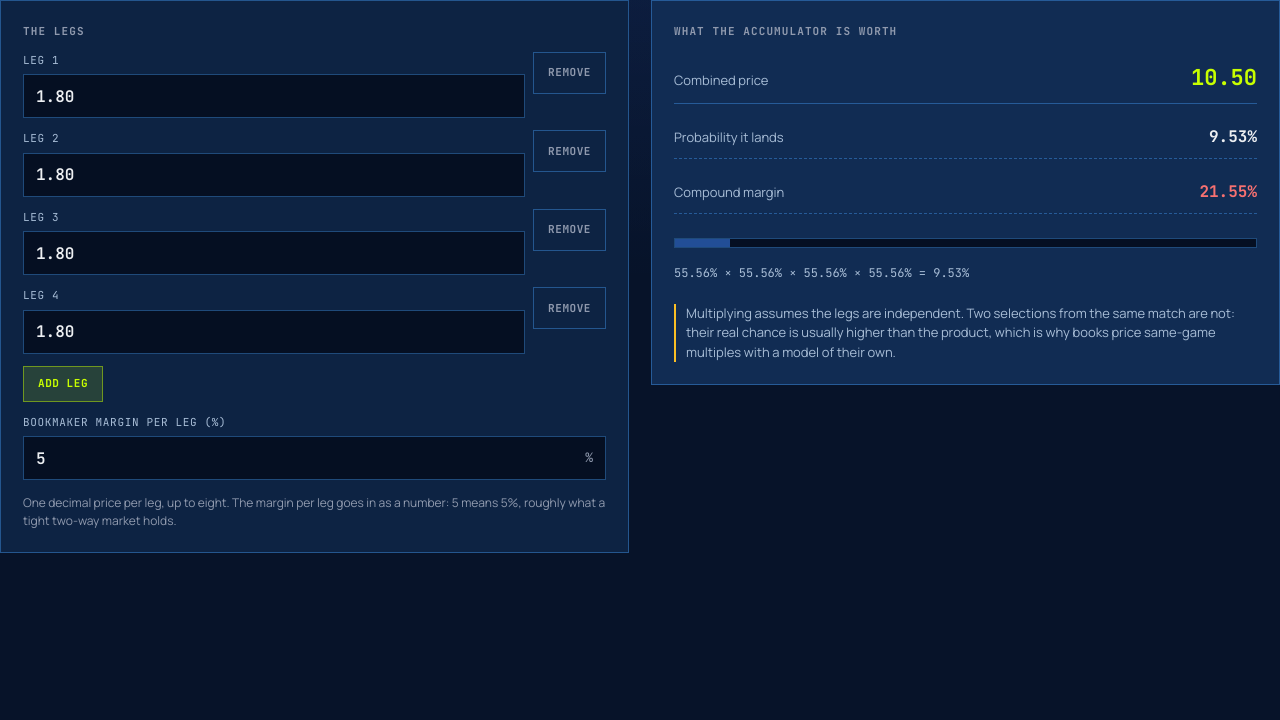
Scenario: parlay calculator › una gamba vuota mostra il trattino, e il bottone togli la fa tornare al numero
The image size is (1280, 720).
Click the button "Add leg".
click(63, 384)  # box [23,366,103,402]
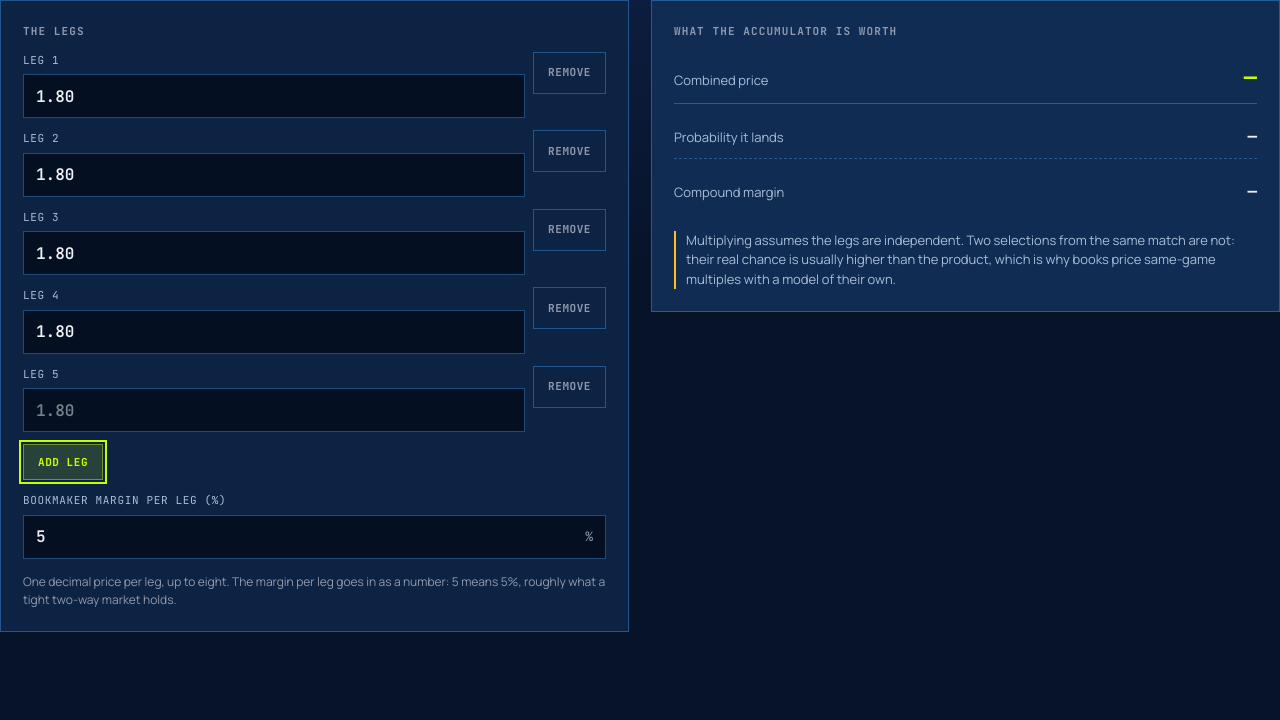
Expected: the field labelled "Leg 5" is shown, [24,389,524,431]
Expected: the text with test id "out-parlay-total" reads "—", [1244,62,1257,92]
Click the button "Remove" in the row of "Leg 5".
click(570, 386)  # box [533,366,606,408]
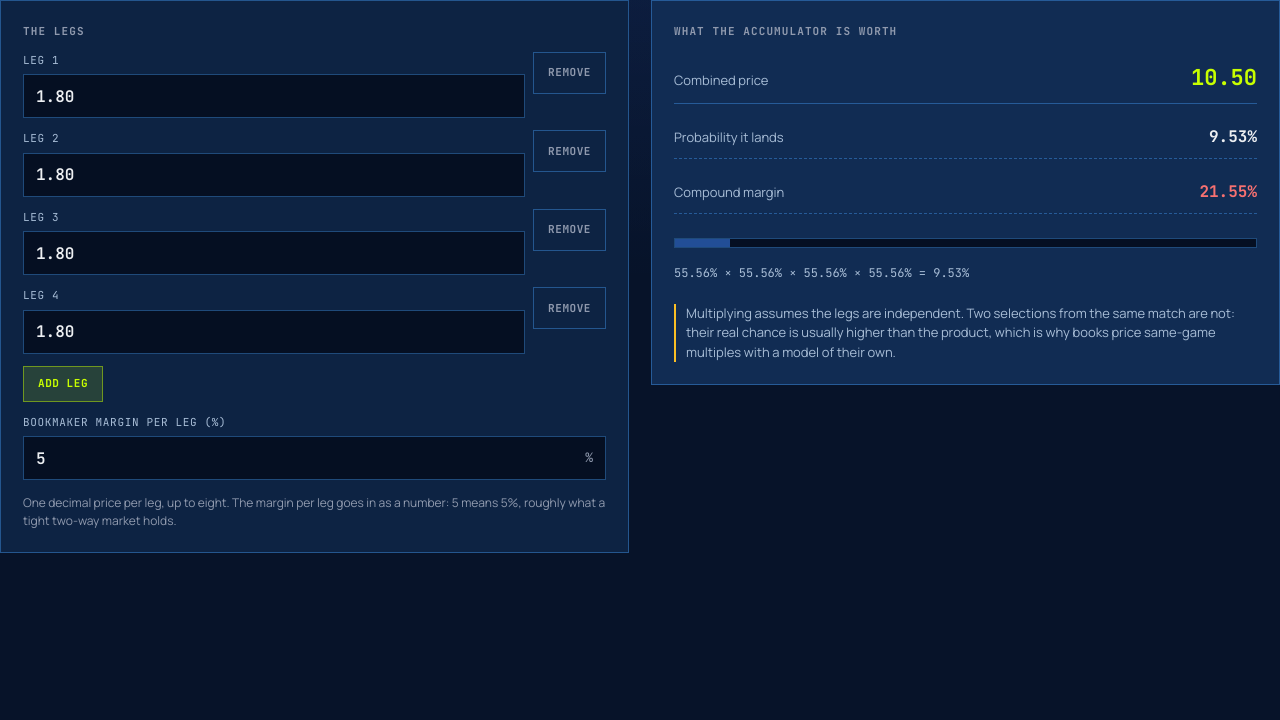
Expected: the text labelled "Leg 5" is gone
Expected: the text with test id "out-parlay-total" reads "10.50", [1191,62,1257,92]
